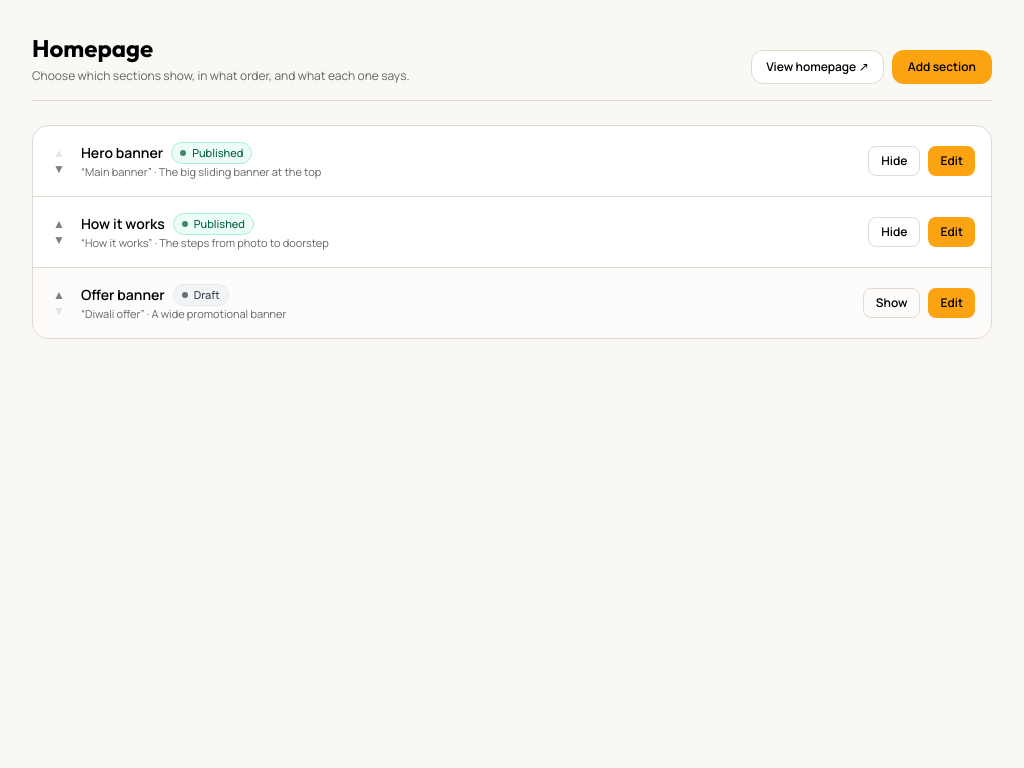
Test: admin homepage › edits the "How it works" steps and saves them
Step 1. Click the button "Edit" in the row of "The steps from photo to doorstep" → (952, 232), box left=928, top=217, right=975, bottom=247
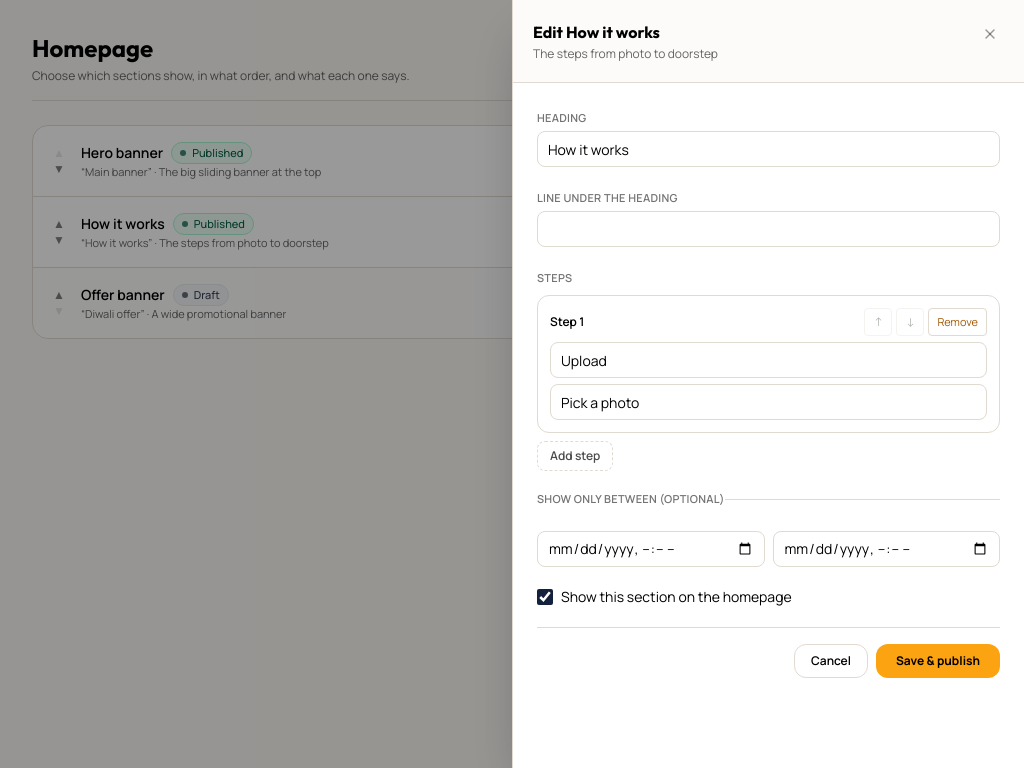
Step 2. Click the button "Add step" → (575, 456), box left=537, top=441, right=613, bottom=471
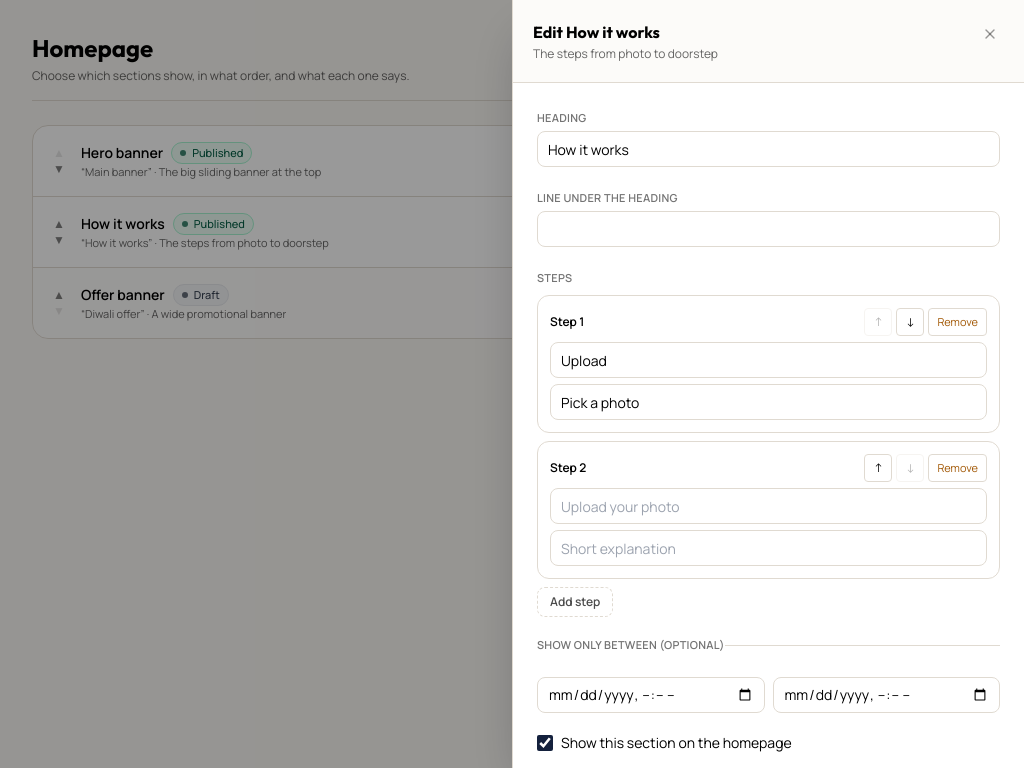
Step 3. Type "We frame it" into the field named "Step 2 name" → (768, 506), box left=550, top=488, right=987, bottom=524
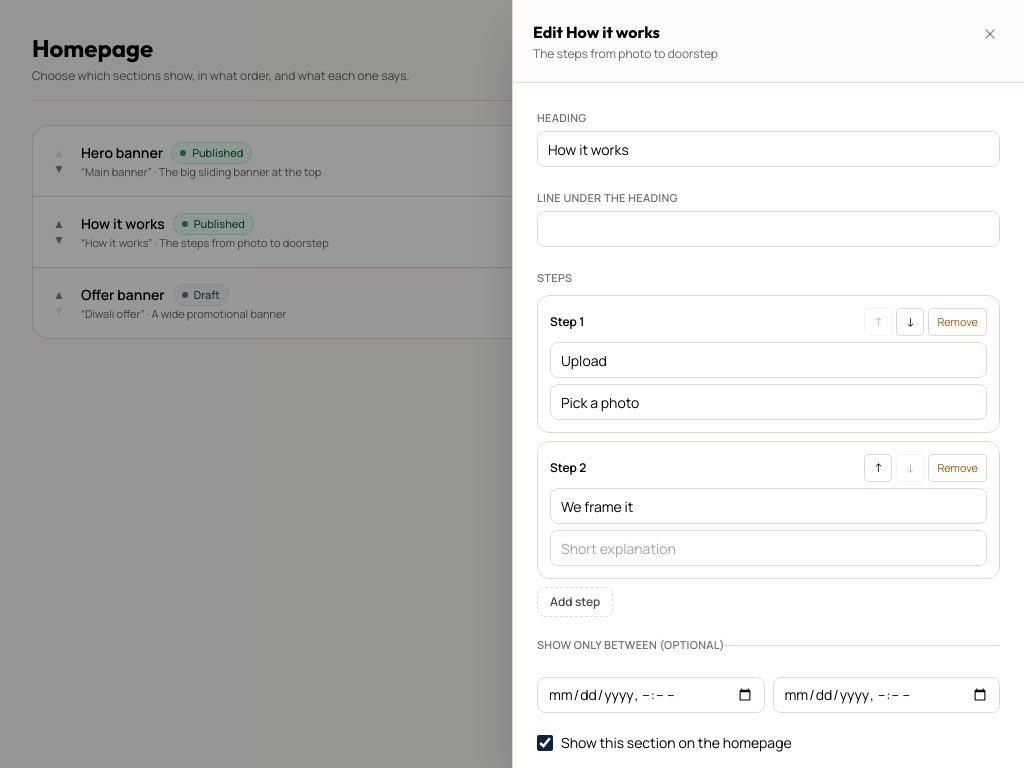
Step 4. Type "By hand, in India" into the field named "Step 2 description" → (768, 548), box left=550, top=530, right=987, bottom=566
(page scrolled)
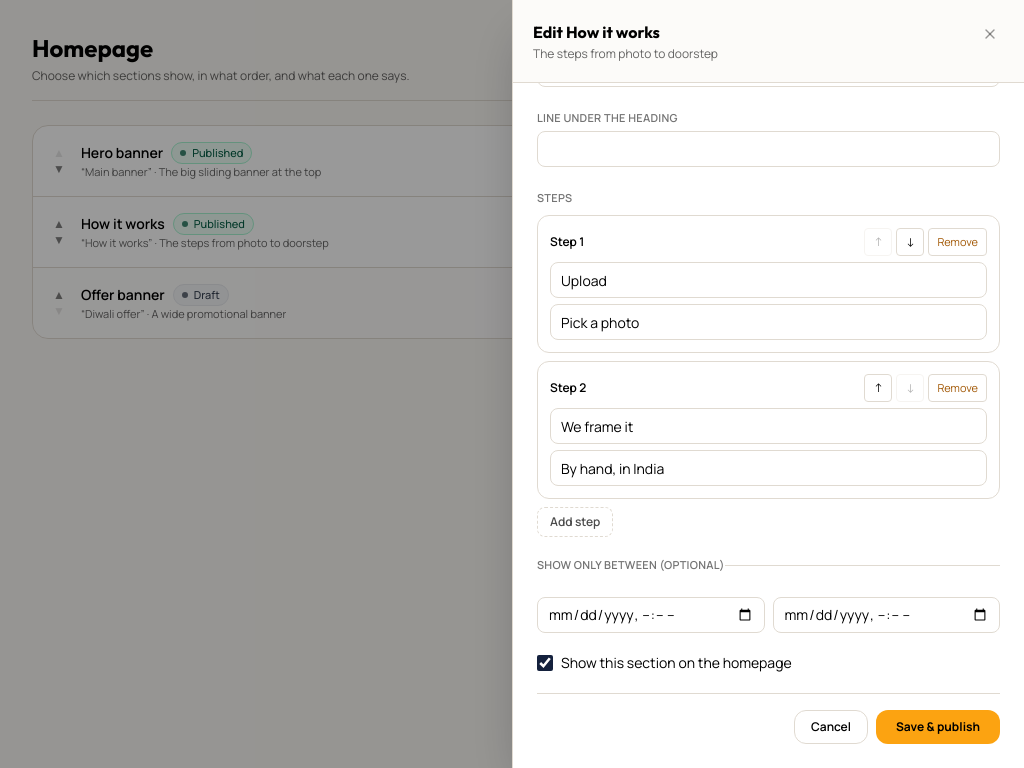
Step 5. Click the button "Save & publish" → (938, 727), box left=876, top=710, right=1000, bottom=744
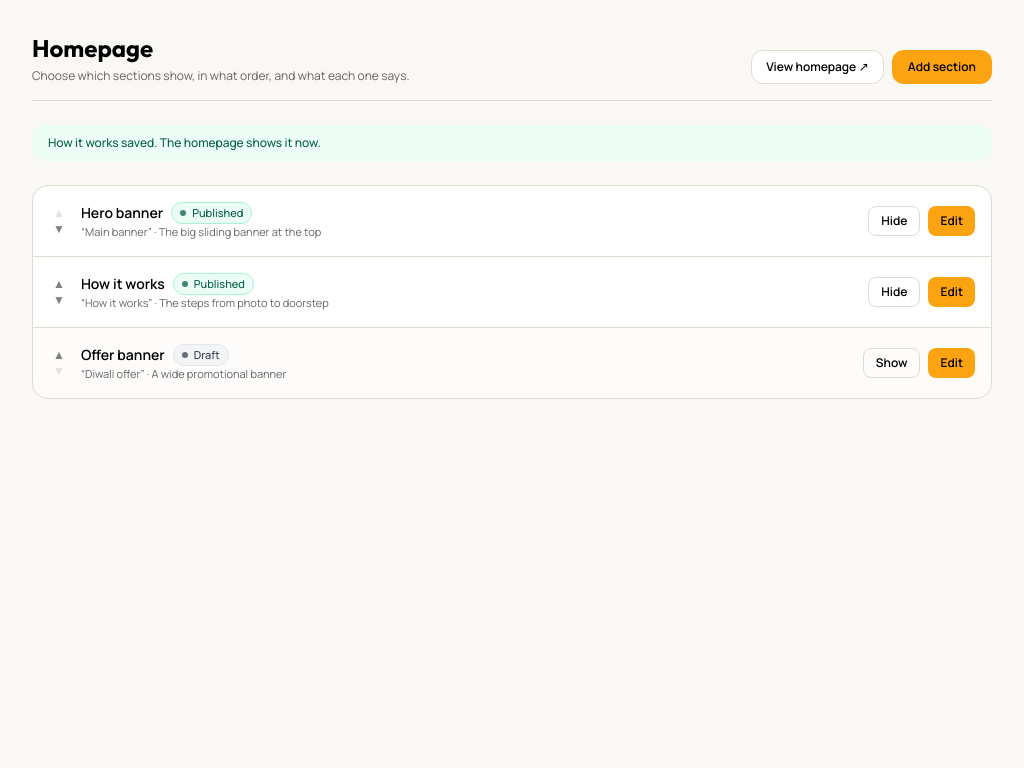
Check: the text "How it works saved. The homepage shows it now." is shown, box left=32, top=125, right=992, bottom=161
